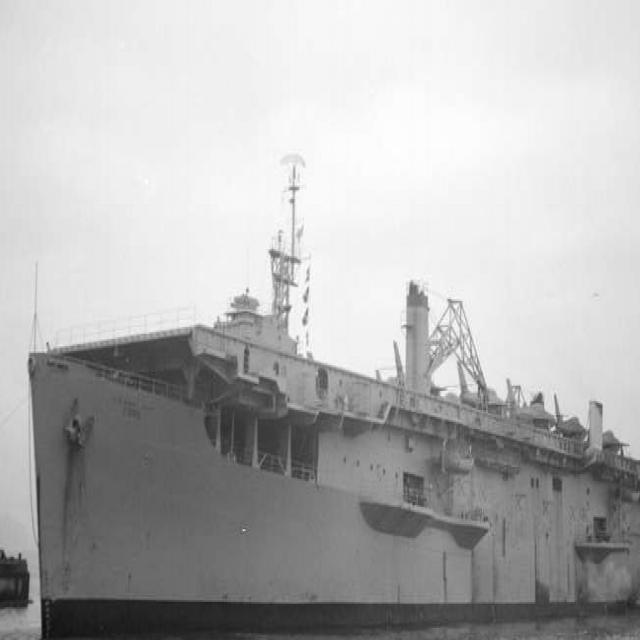Portanaves: (19, 82, 640, 640)
